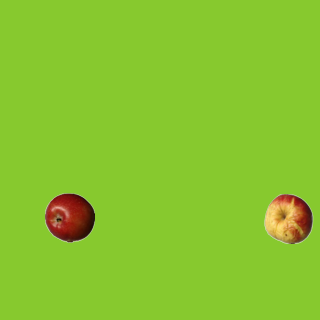Apple Braeburn: (44, 192, 94, 242)
Apple Red Yellow 1: (263, 193, 313, 243)
